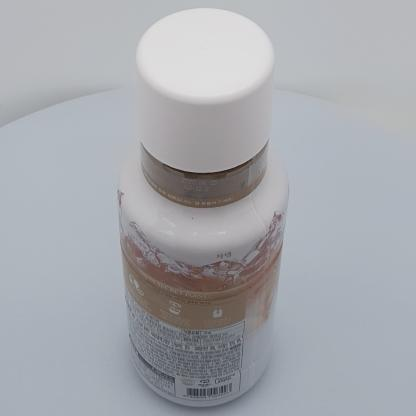----------1-1L: (117, 8, 289, 407)
